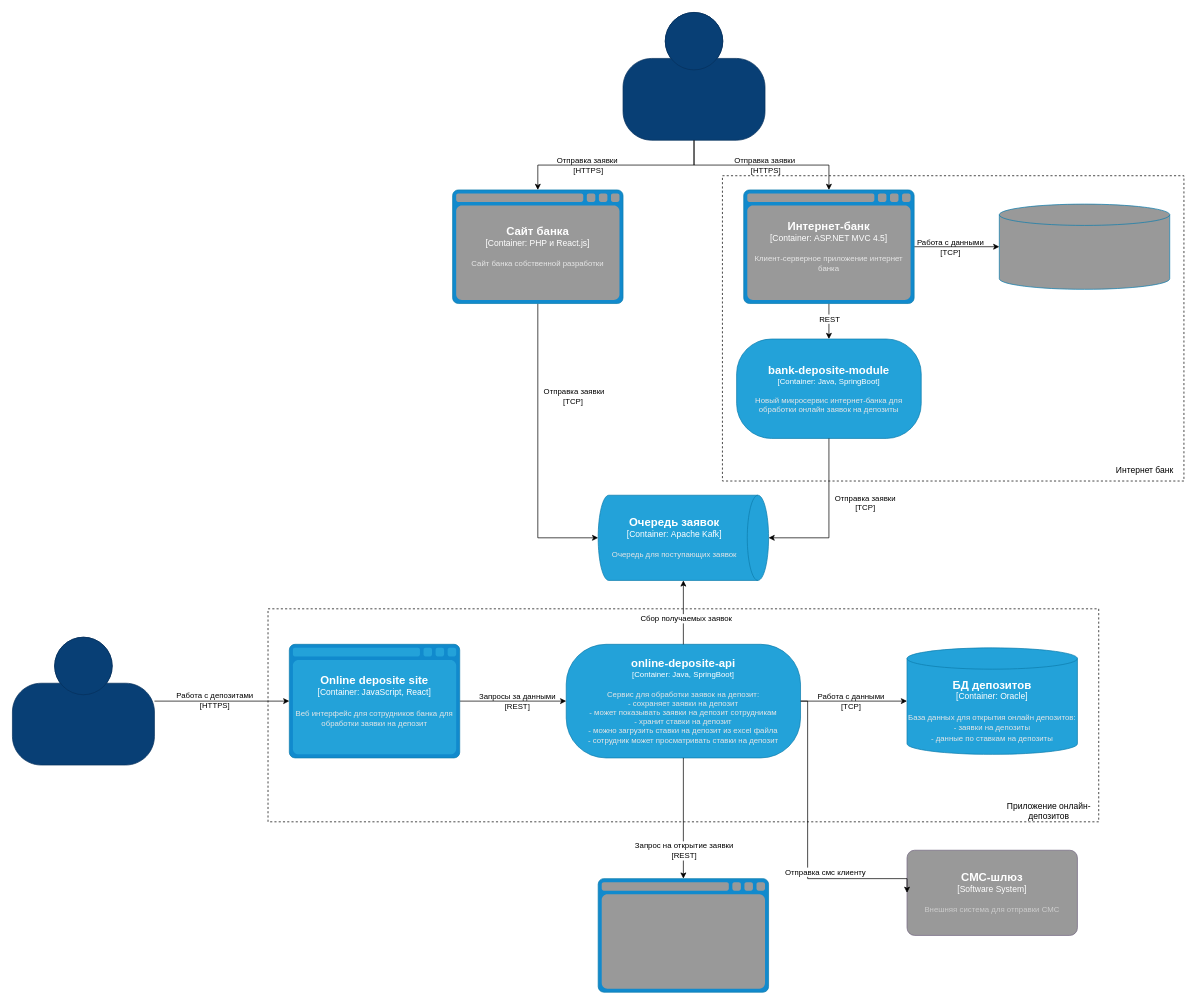
The diagram is 1196 pixels wide and 1005 high, and some of its shapes have lost their labels. Each missing label, with the box of its shape:
АБС [Container: Delphi, Oracle] Автоматизированная банковская система: (597, 878, 769, 992)
База данных [Container: MS SQL] База данных интернет-банка: (999, 203, 1170, 289)
Клиент [Person] Клиент: (622, 12, 765, 140)
Сотрудник [Person] Сотрудник бек-офиса: (12, 637, 154, 765)
